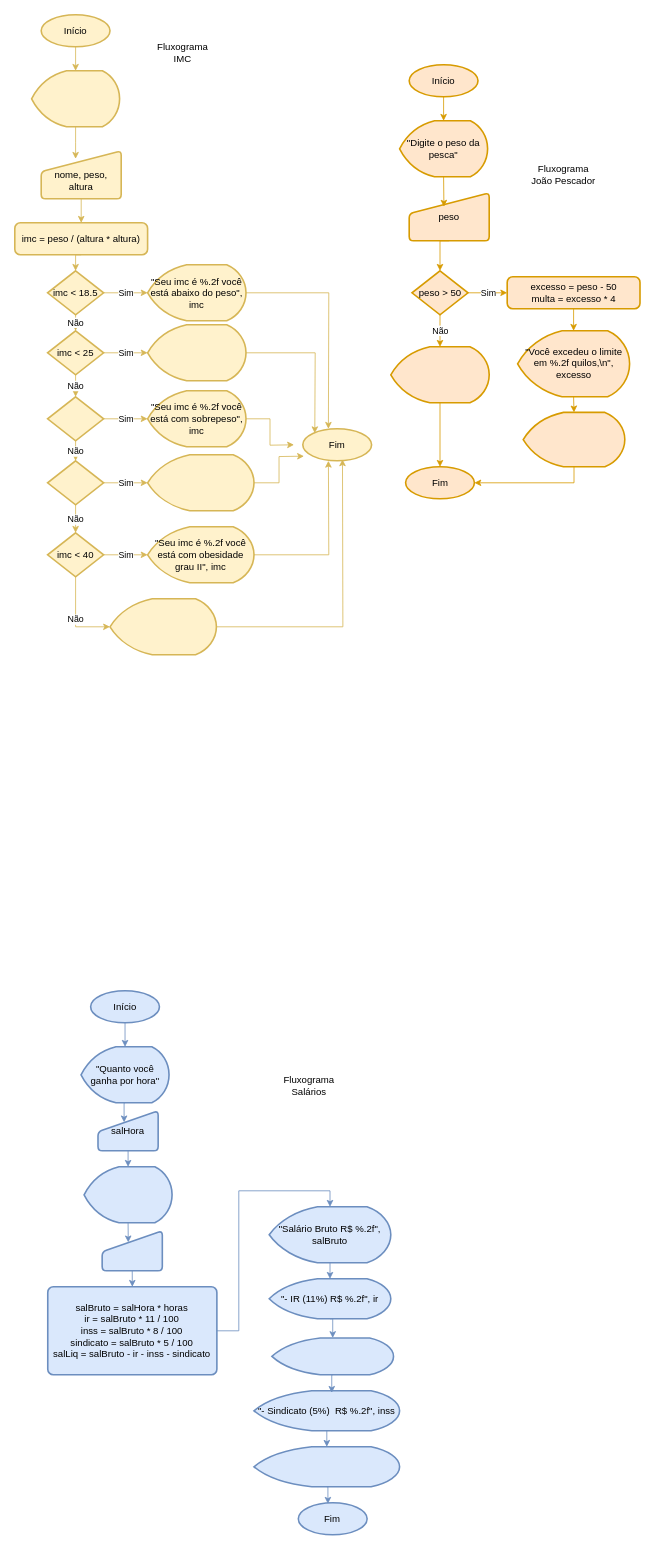
Image size: 654x1549. Some labels were removed from this diagram. The shapes that lost their labels are listed below. From the top down, each one's centre as x and y in pixels, then its label:
(75,98): "Digite seu nome, peso e altura"
(196,352): "Seu imc é %.2f você está no peso normal", imc
(440,374): "Você não excedeu o limite de 50 quilos"
(75,418): imc < 30
(573,439): "pagará uma multa de %.2f", multa
(75,482): imc < 35
(200,482): "Seu imc é %.2f você está com obesidade grau I", imc
(163,626): "Seu imc é %.2f você está com obesidade grau III", imc
(127,1194): "Quantas horas você trabalha por mês"
(132,1250): horas
(332,1356): "- INSS (8%) R$ %.2f", inss
(326,1466): "= Salário líquiro R$ %.2f", salLiq
